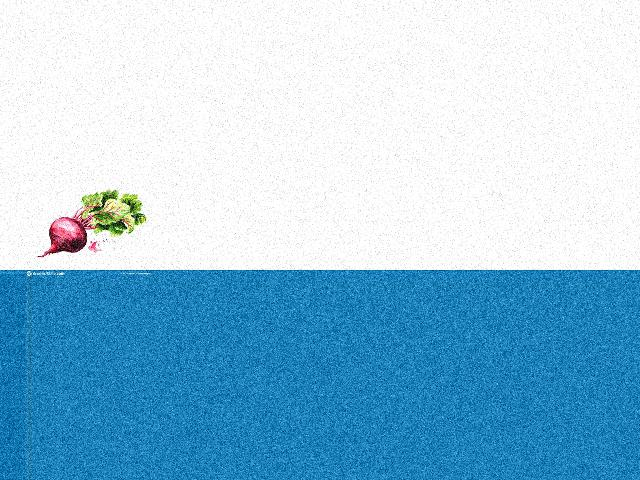beet: (37, 190, 147, 258)
